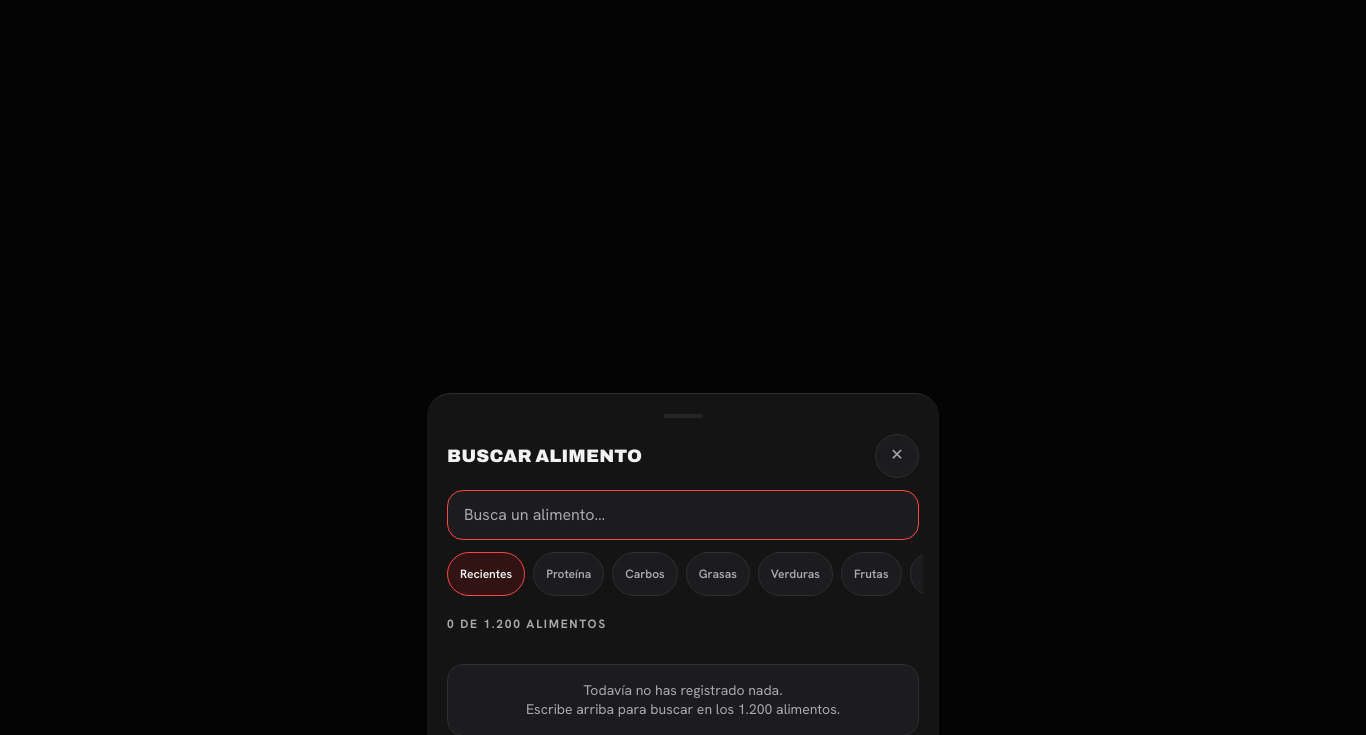
Test: SheetBuscarAlimento › con el contador apagado no enseña kcal/100 g y sigue encontrando
Type "arroz" into the search field named "Nombre del alimento".
click(683, 514); type("arroz")  # box left=447, top=490, right=919, bottom=540
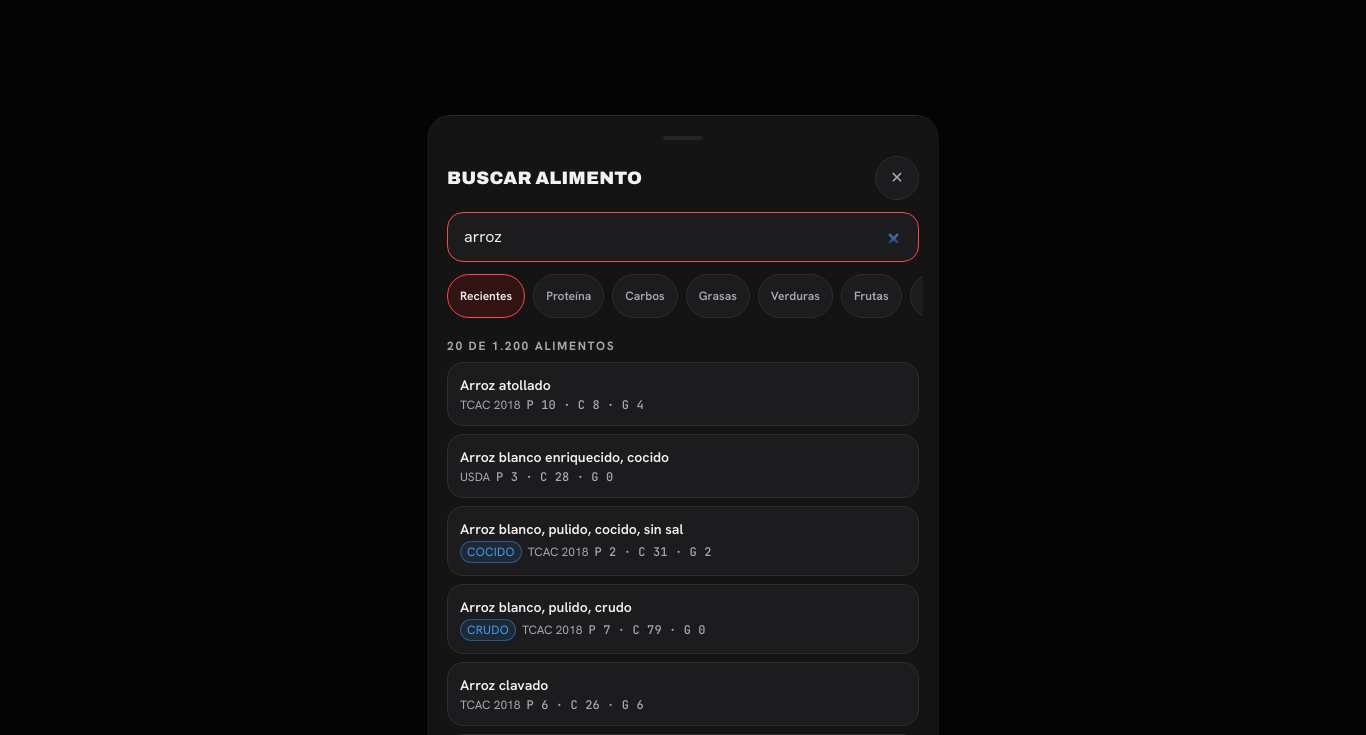
expect the button "Arroz atollado TCAC 2018 P 10 · C 8 · G 4" is shown: met, box left=447, top=362, right=919, bottom=426
